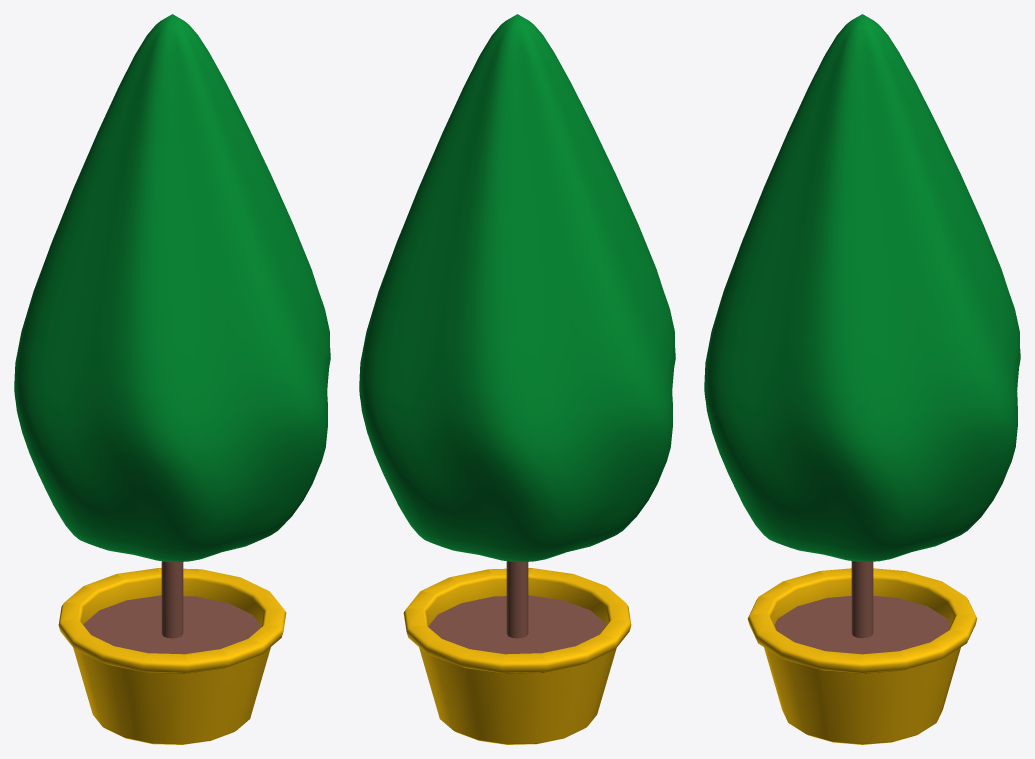
File: Store_3_Tree_1.glb
3 views of the same model, side by side, from view 1: azimuth 30°, elevation 25°; view 2: azimuth 150°, elevation 25°; view 3: azimuth 270°, elevation 25° (orthographic).
Parts seen in each view (by area): view 1: Store_3_Tree_1; view 2: Store_3_Tree_1; view 3: Store_3_Tree_1.
Part boxes in pixels (<box>): Store_3_Tree_1: <box>14,14,330,744</box>; Store_3_Tree_1: <box>359,14,675,744</box>; Store_3_Tree_1: <box>704,14,1020,744</box>.
Size of the model in its own units: 1.34 by 3.05 by 1.25.
Materials: 1 (1 with a texture image).
